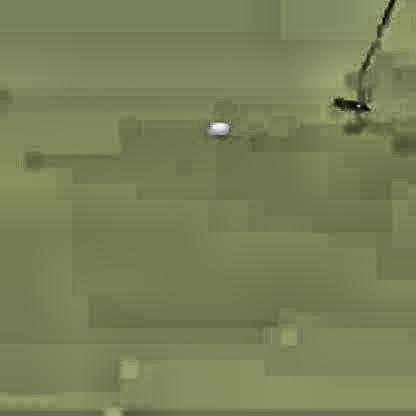golfball: (207, 119, 227, 134)
